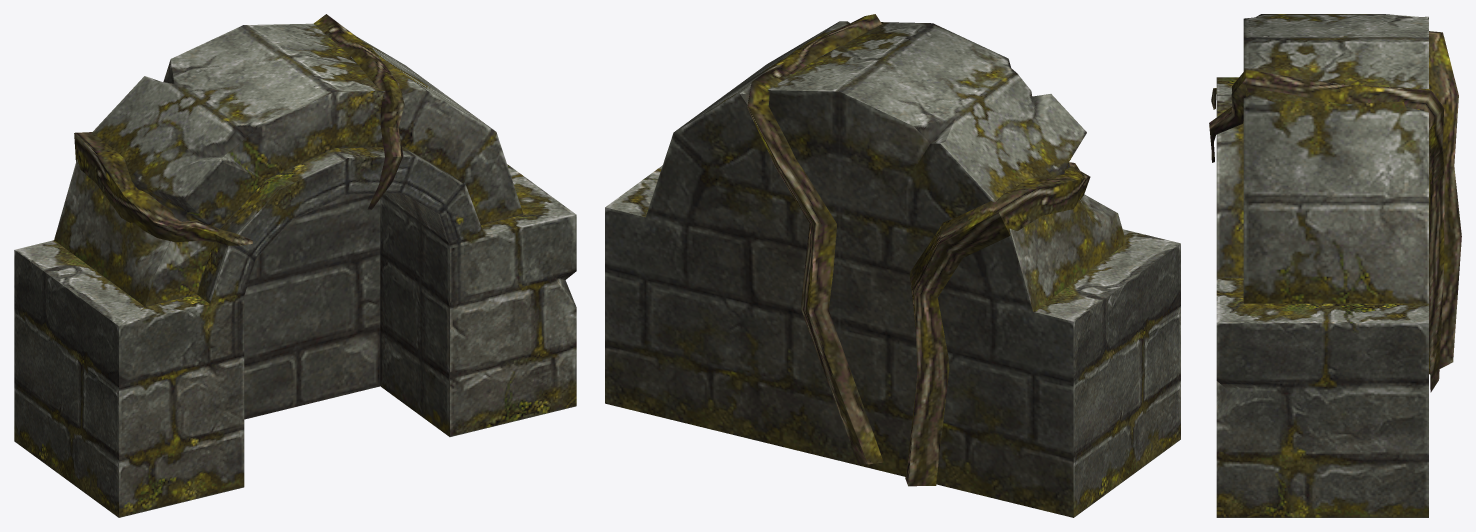
The model's file is 4009_Item_qiang_5.FBX.
3 views of the same model, side by side, from view 1: azimuth 30°, elevation 25°; view 2: azimuth 150°, elevation 25°; view 3: azimuth 270°, elevation 25° (orthographic). The views are drawn at different scales.
Parts seen in each view (by area): view 1: 4009_Item_qiang_5; view 2: 4009_Item_qiang_5; view 3: 4009_Item_qiang_5.
Part boxes in pixels (box(x1,y1,x2,y2)): 4009_Item_qiang_5: box(14, 14, 576, 517); 4009_Item_qiang_5: box(605, 14, 1180, 517); 4009_Item_qiang_5: box(1209, 14, 1461, 517).
Size of the model in its own units: 949 by 717 by 446.
